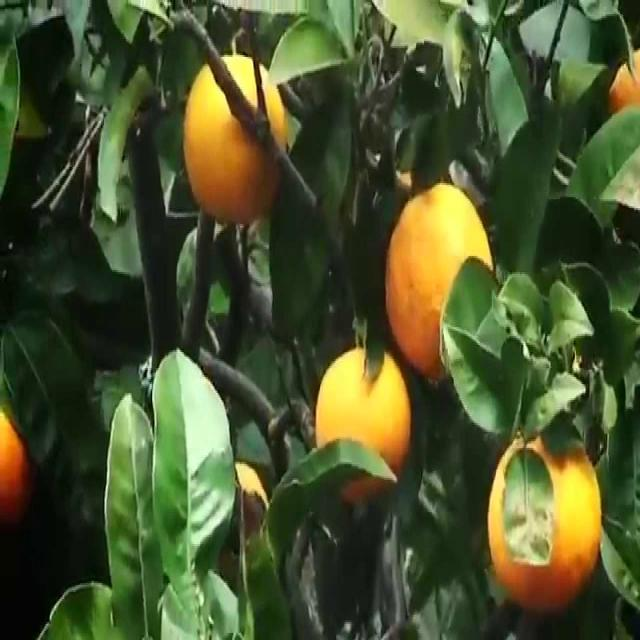Jeruk Sudah Matang: (382, 179, 502, 391), (487, 419, 609, 606), (179, 47, 293, 224), (310, 336, 419, 507)
